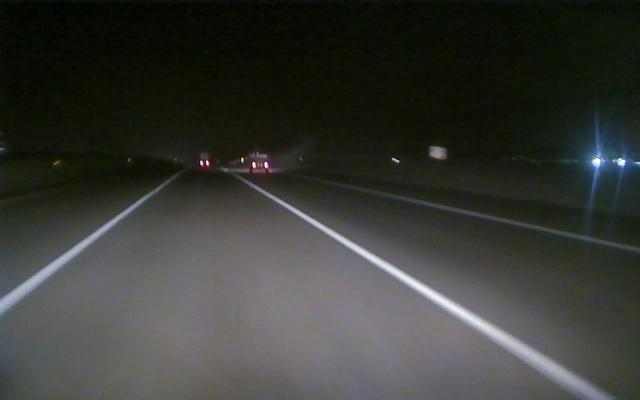lane: (252, 182, 614, 398), (3, 181, 169, 314), (374, 189, 640, 254)
